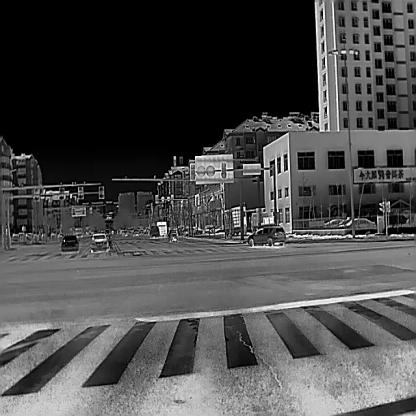bus: (156, 220, 166, 236)
car: (246, 225, 286, 246), (338, 218, 376, 228), (60, 233, 78, 254), (90, 232, 108, 251), (148, 226, 159, 236), (169, 229, 178, 241), (323, 219, 338, 225), (132, 229, 138, 236), (122, 229, 127, 236)
truck: (221, 206, 246, 236), (249, 211, 274, 233)
